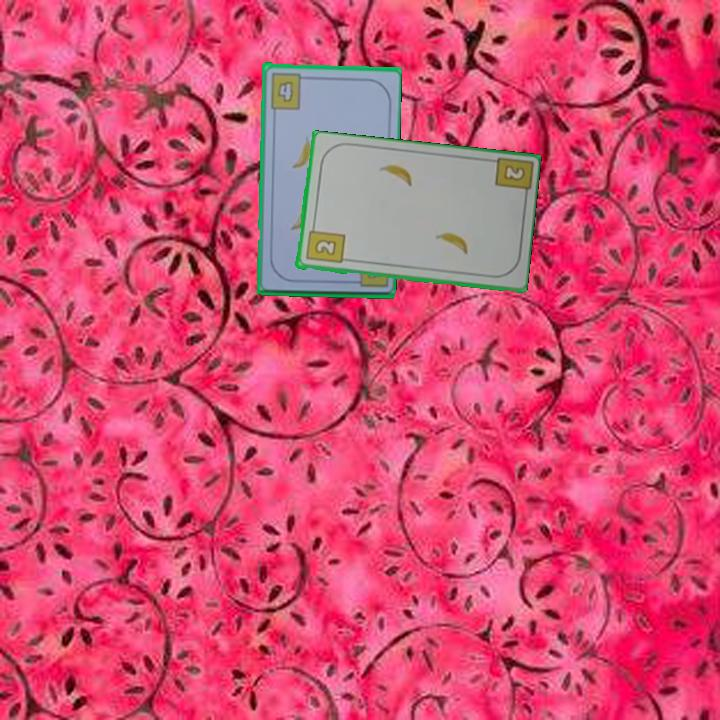2b: (302, 221, 347, 267), (500, 162, 528, 184)
4b: (267, 69, 310, 111)
